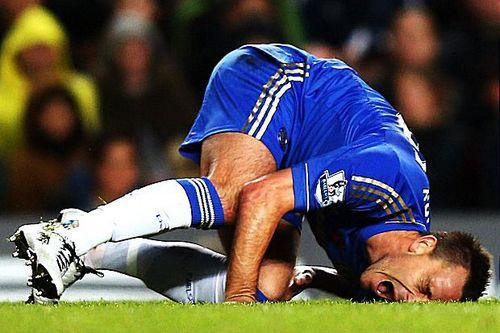fall: (13, 20, 491, 310)
